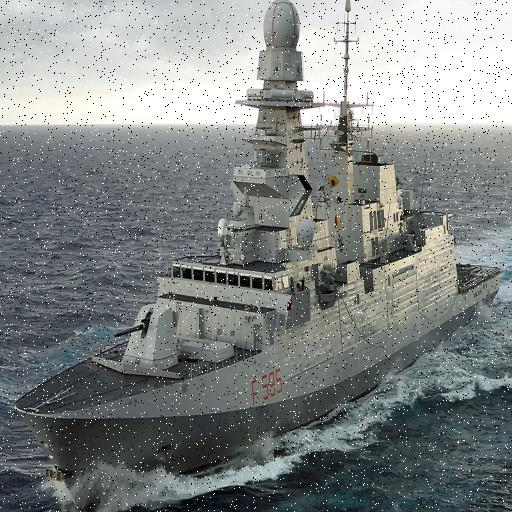Fragata: (1, 1, 344, 512)
